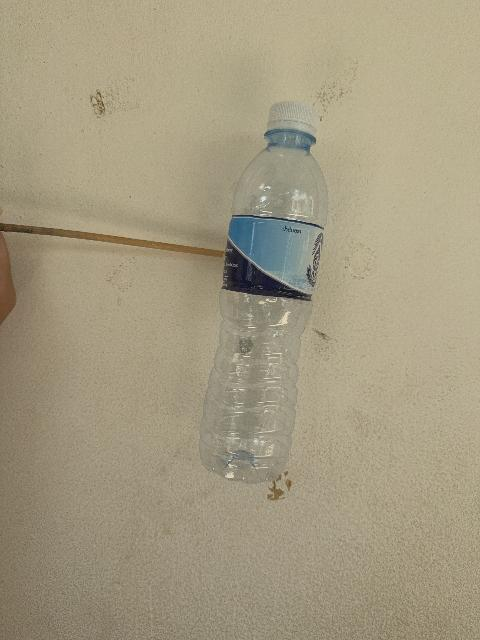bottle: (200, 102, 327, 483)
